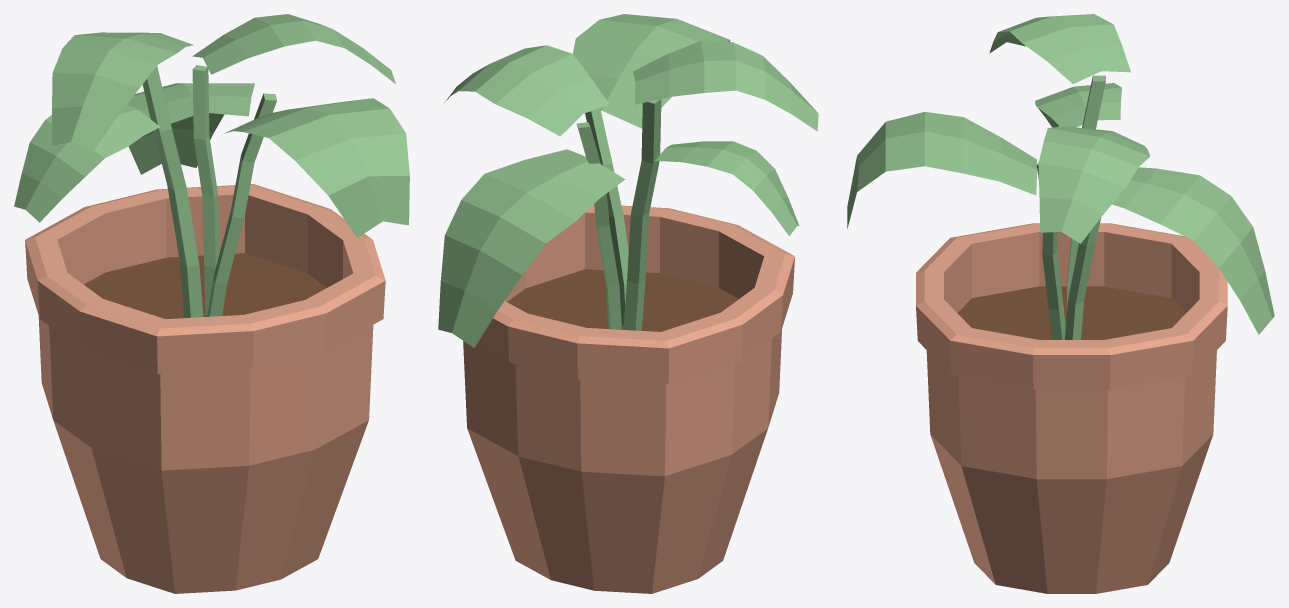
File: Plant.fbx
3 views of the same model, side by side, from view 1: azimuth 30°, elevation 25°; view 2: azimuth 150°, elevation 25°; view 3: azimuth 270°, elevation 25° (orthographic). The views are drawn at different scales.
Visible parts, largest first — view 1: Plant; view 2: Plant; view 3: Plant.
Boxes of the visible parts, left/top/right/bottom form: Plant: left=14, top=14, right=409, bottom=593; Plant: left=438, top=14, right=818, bottom=593; Plant: left=847, top=14, right=1274, bottom=593.
Bounding box in the file's own units: 83.65 × 91.71 × 116.
